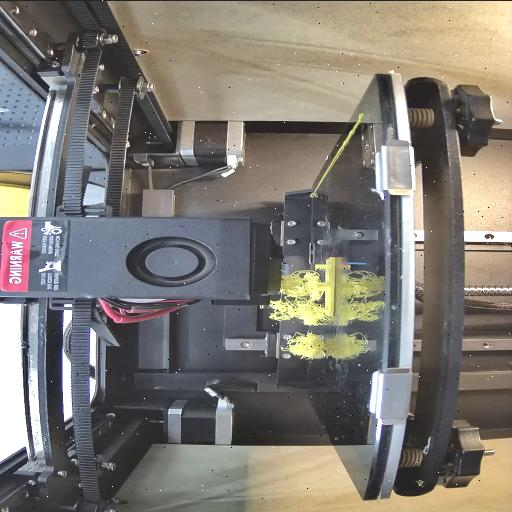spaghetti: (267, 270, 319, 324), (280, 334, 332, 360)
